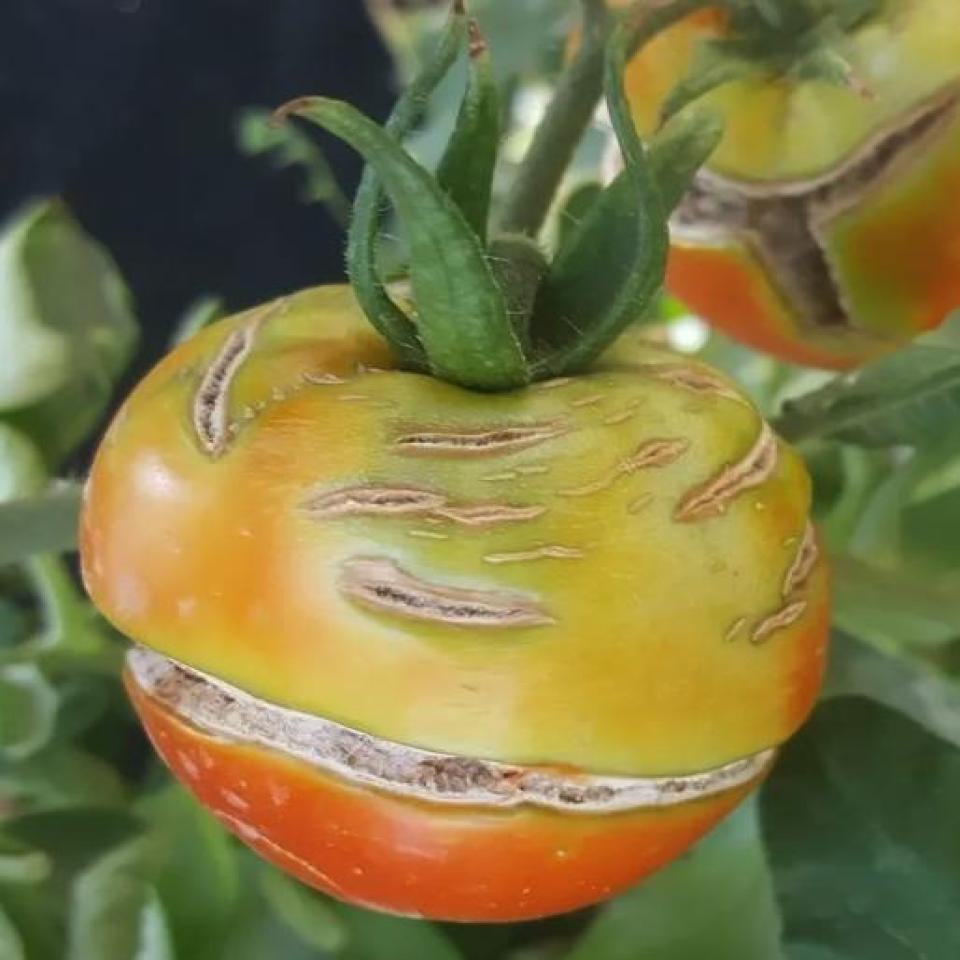Cracking: (80, 562, 790, 834), (282, 481, 578, 636), (605, 368, 808, 544), (196, 297, 279, 471), (394, 394, 556, 447)
